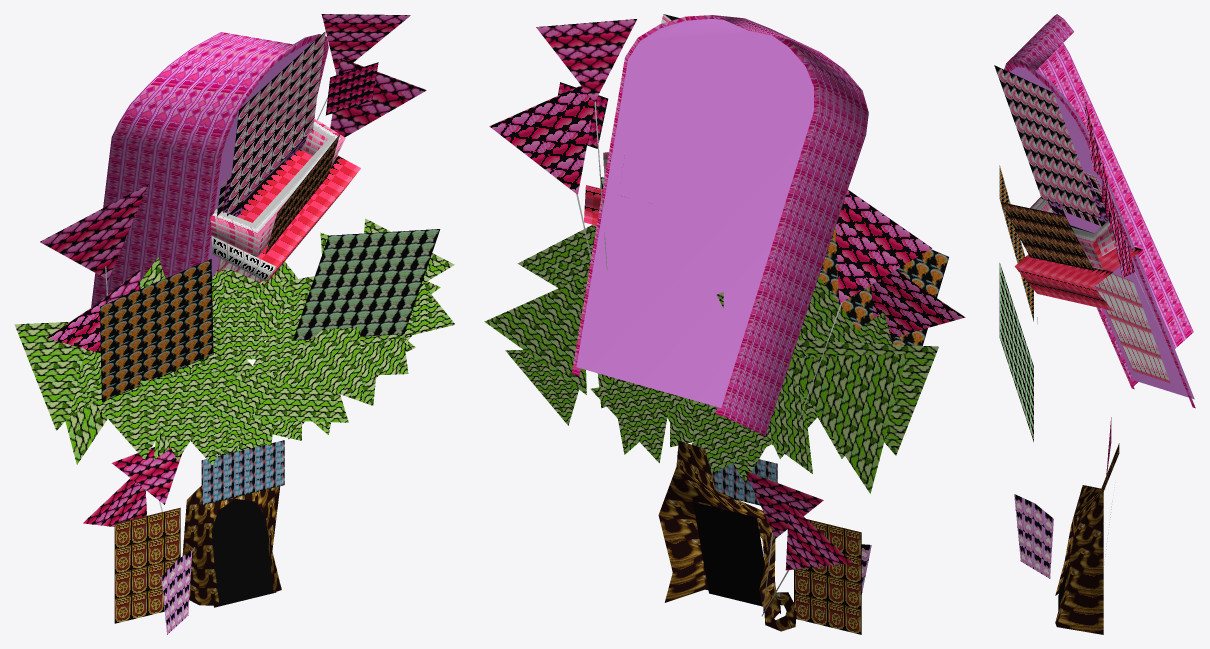
The model's file is 31_heart.gltf.
3 renders of one model, left to right at view 1: azimuth 30°, elevation 25°; view 2: azimuth 150°, elevation 25°; view 3: azimuth 270°, elevation 25°, orthographic. The views are drawn at different scales.
Visible parts, largest first — view 1: 31_heart; view 2: 31_heart; view 3: 31_heart.
Boxes of the visible parts, x1,y1,x2,y2 form: 31_heart: (14,14,454,634); 31_heart: (484,14,965,634); 31_heart: (994,14,1195,634).
Bounding box in the file's own units: 5.61 × 6.98 × 2.23.
Materials: 19 (19 with a texture image).
